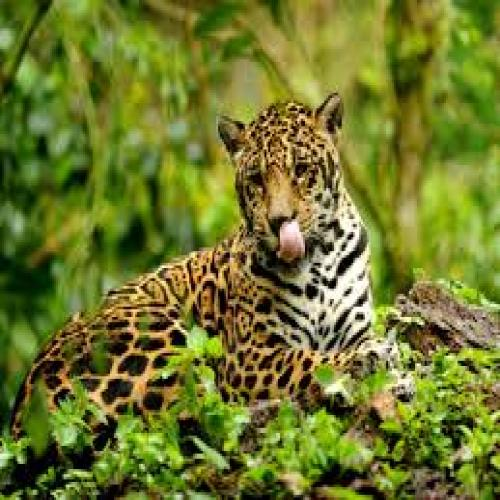jaguar_not-endangered: (19, 109, 403, 418)
